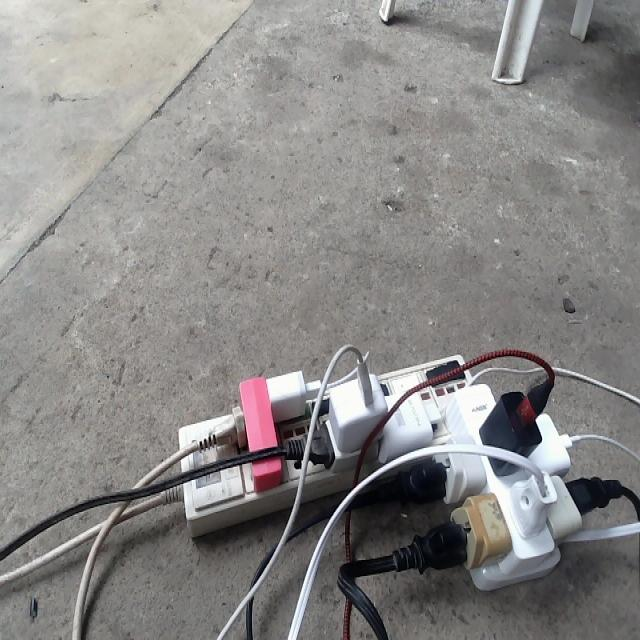-: (176, 348, 587, 589)
